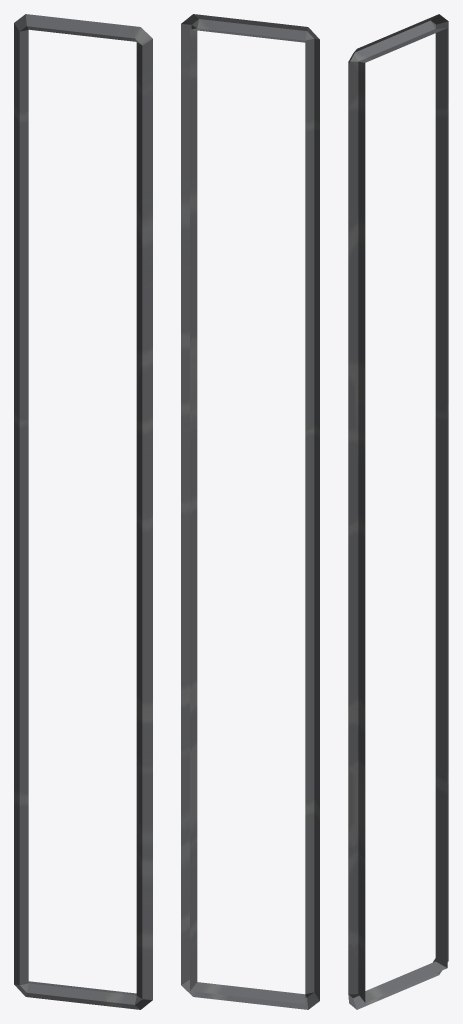
File: field_winter_elevator_fastener.fbx
The picture shows the model from 3 angles, left to right: view 1: azimuth 30°, elevation 25°; view 2: azimuth 210°, elevation 25°; view 3: azimuth 270°, elevation 25°; orthographic projection. The views are drawn at different scales.
Parts seen in each view (by area): view 1: field_winter_elevator_fastener; view 2: field_winter_elevator_fastener; view 3: field_winter_elevator_fastener.
Boxes of the visible parts, <box> form: field_winter_elevator_fastener: <box>14,14,152,1009</box>; field_winter_elevator_fastener: <box>181,14,319,1009</box>; field_winter_elevator_fastener: <box>348,14,448,1009</box>.
Bounding box in the file's own units: 13.69 × 145 × 13.68.
Materials: 1 (1 with a texture image).
